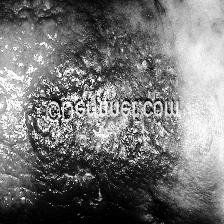Non-Cancerous Skin Condition: (7, 123, 190, 188), (27, 46, 176, 98)
